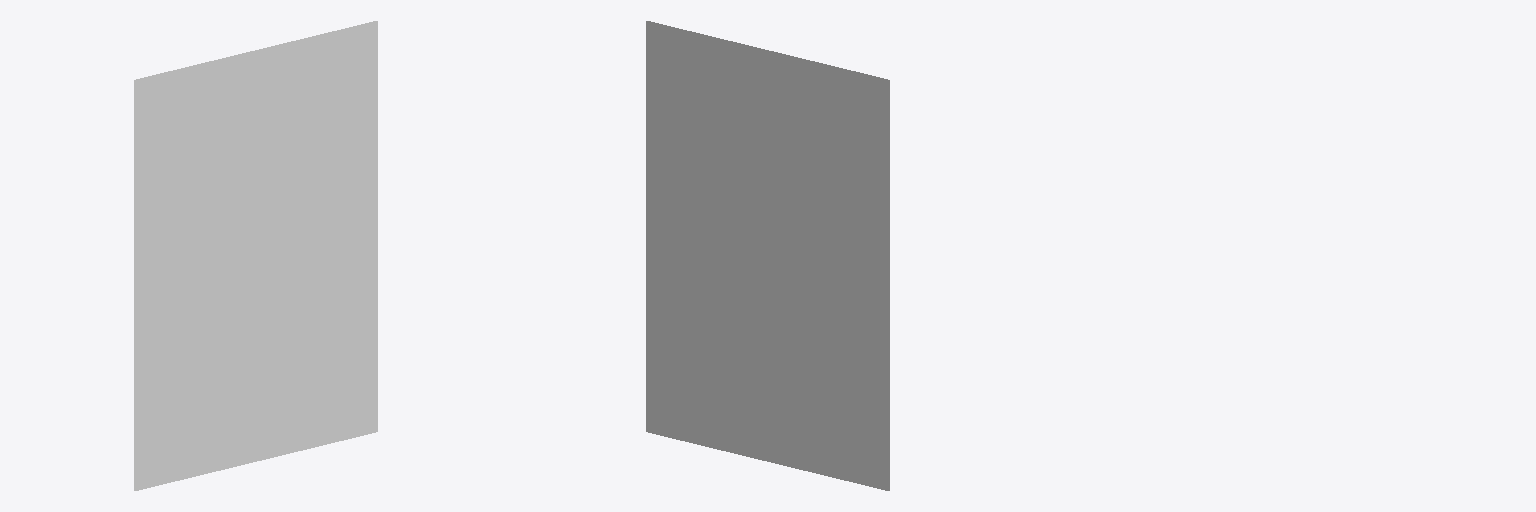
robot.urdf — model.urdf:
<?xml version="0.0" ?>
<robot name="model.urdf">
  <link name="baseLink">
    <contact>
      <friction_anchor/>
      <lateral_friction value="0.3"/>
      <rolling_friction value="0.0"/>
      <contact_cfm value="0.0"/>
      <contact_erp value="1.0"/>
    </contact>
    <inertial>
       <origin rpy="0 0 0" xyz="0 0 0"/>
       <mass value="0.1"/>
       <inertia ixx="8e-05" ixy="0" ixz="0" iyy="0.0002" iyz="0" izz="0.0002"/>
    </inertial>
    <visual>
      <geometry>
        <mesh filename="textured.dae" scale="1 1 1"/>
      </geometry>
      <material name="white">
        <color rgba="1. 1. 1. 1."/>
      </material>
    </visual>
    <collision>
      <geometry>
    	 	<mesh filename="textured.dae" scale="1 1 1"/>
      </geometry>
    </collision>
  </link>
</robot>

--- Facts derived from the render (not from the file) ---
Views: 3 orthographic renders of the robot side by side, from view 1: azimuth 30°, elevation 25°; view 2: azimuth 150°, elevation 25°; view 3: azimuth 270°, elevation 25°.
Model model.urdf with 1 links and 0 joints (none), rooted at baseLink, posed every joint at zero.
Links seen in each view (by area): view 1: baseLink; view 2: baseLink; view 3: none.
Link boxes in pixels (box(x1,y1,x2,y2)): baseLink: box(134, 21, 377, 490); baseLink: box(646, 21, 889, 490).
Size in the robot's own frame: 7.55 by 0 by 12.22 metres.
1 mesh visuals loaded from 1 distinct referenced files (1 Collada DAE).